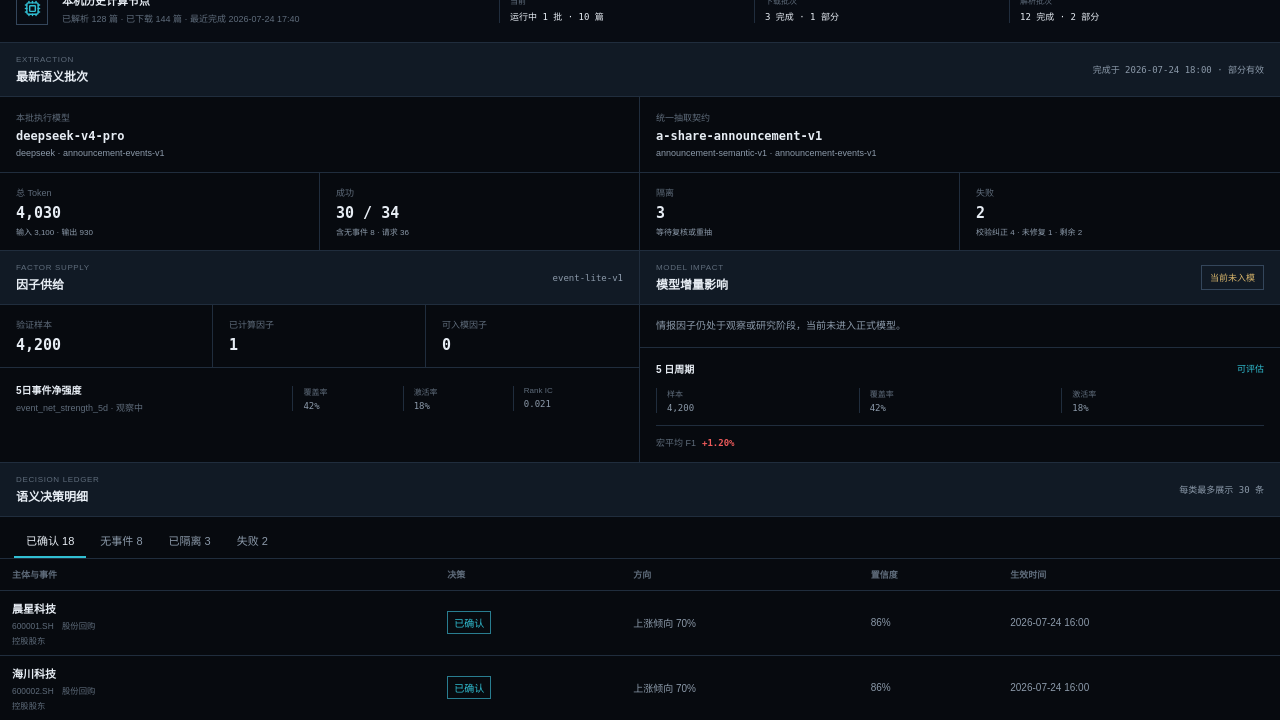
IntelligencePanel › ignores a stale document response after switching decisions
The image size is (1280, 720).
(page scrolled)
Click the button "晨星科技 600001.SH 股份回购 控股股东" at (34, 609), box [12,600,423,646]
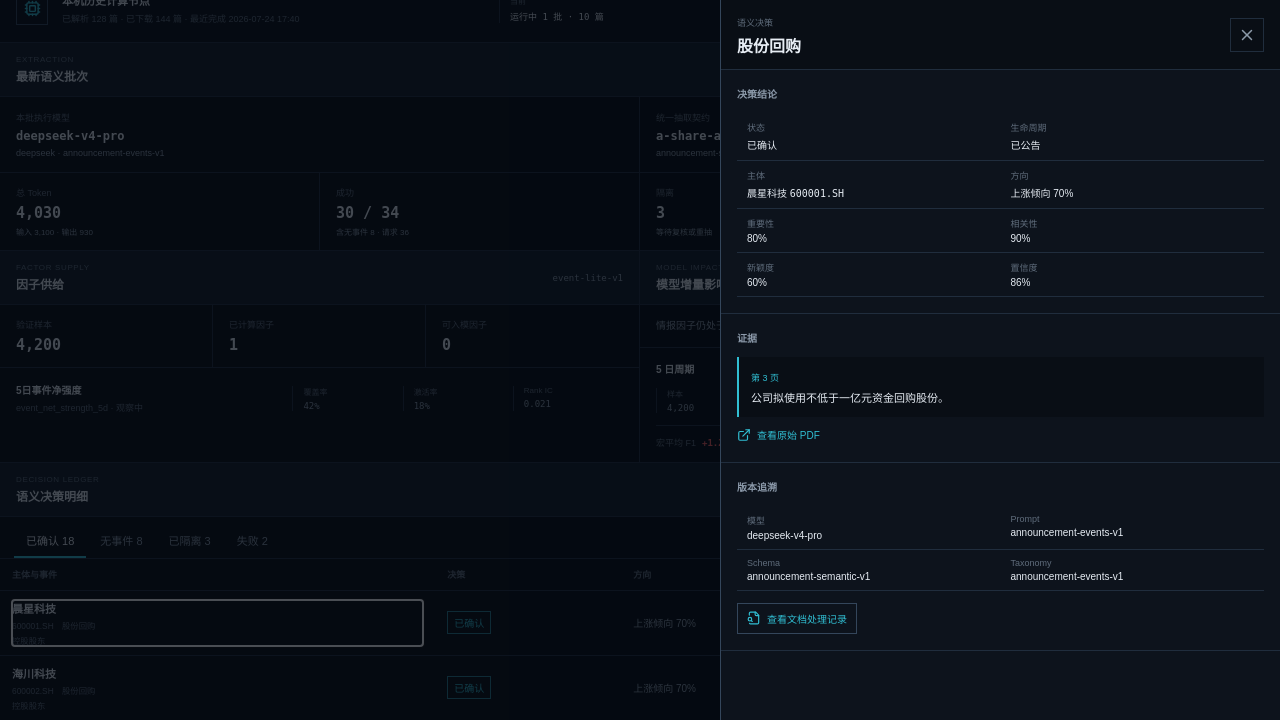
Click the button "查看文档处理记录" at (797, 618), box [737,602,857,634]
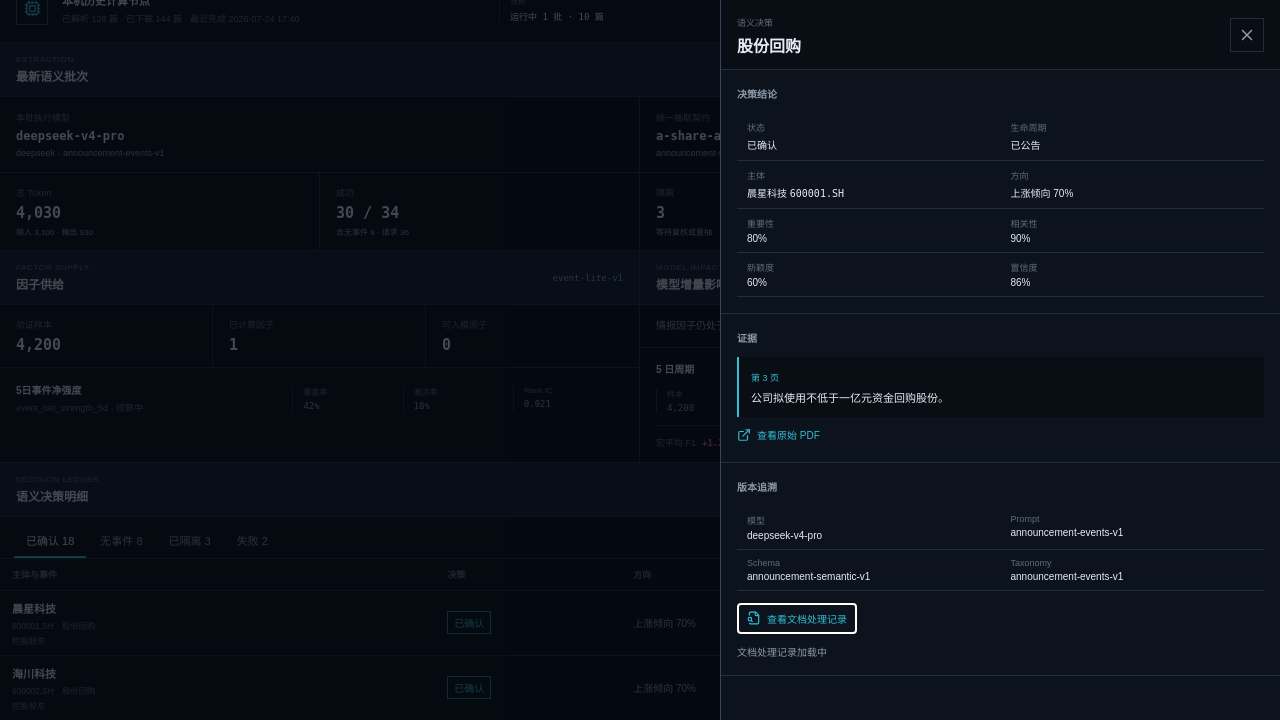
Click the button named "关闭决策详情" at (1247, 34), box [1230,18,1264,52]
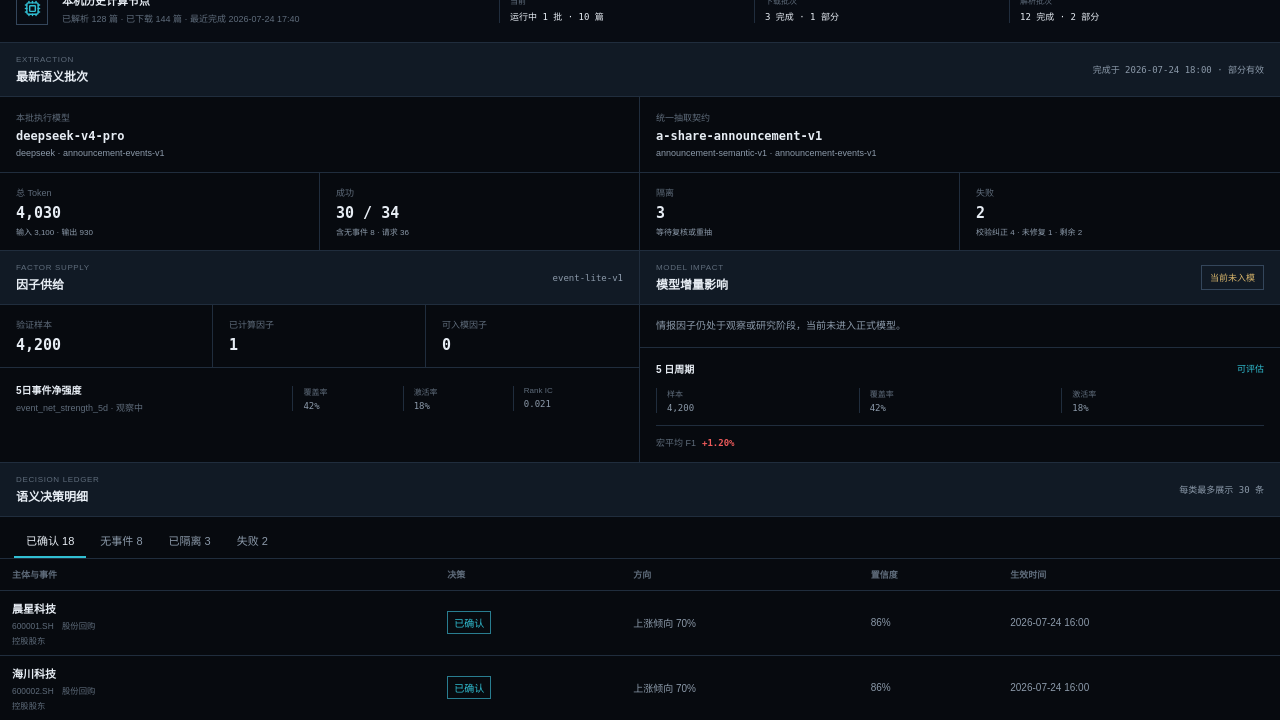
Click the button "海川科技 600002.SH 股份回购 控股股东" at (34, 674), box [12,665,423,711]
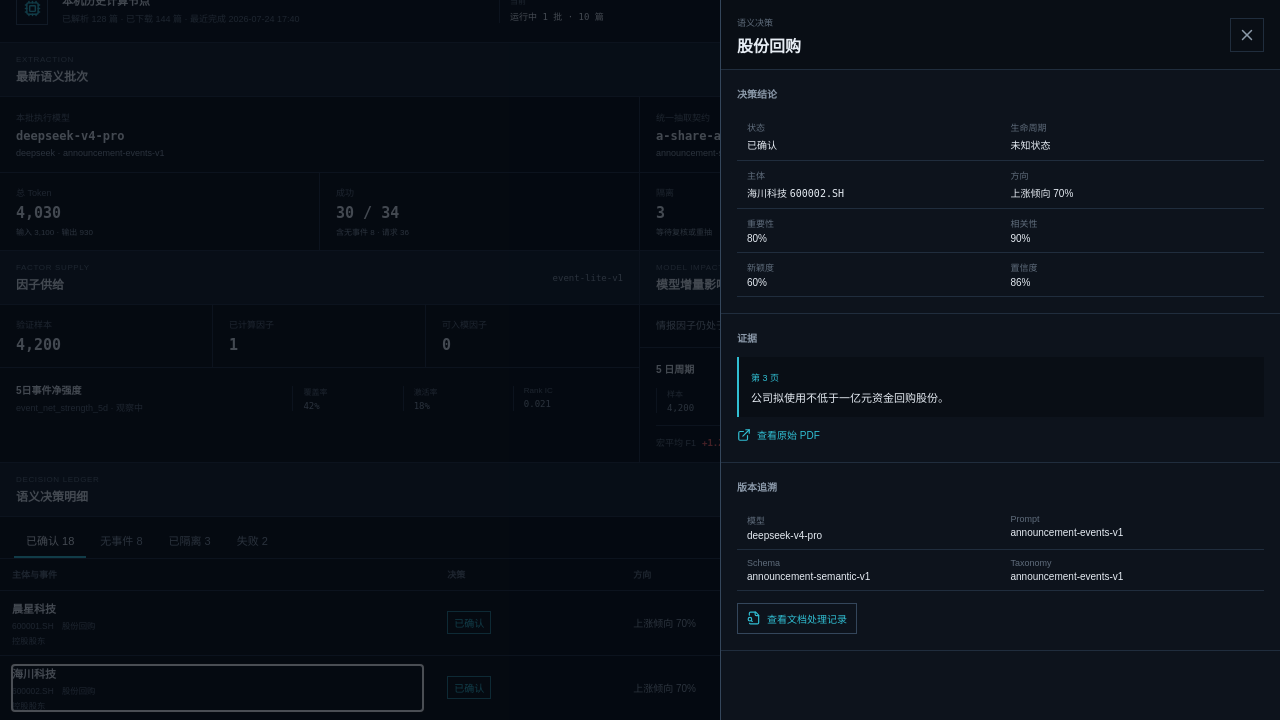
Expected: the text "海川科技" is shown, [747,188,787,199]
Click the button "查看文档处理记录" at (797, 618), box [737,602,857,634]
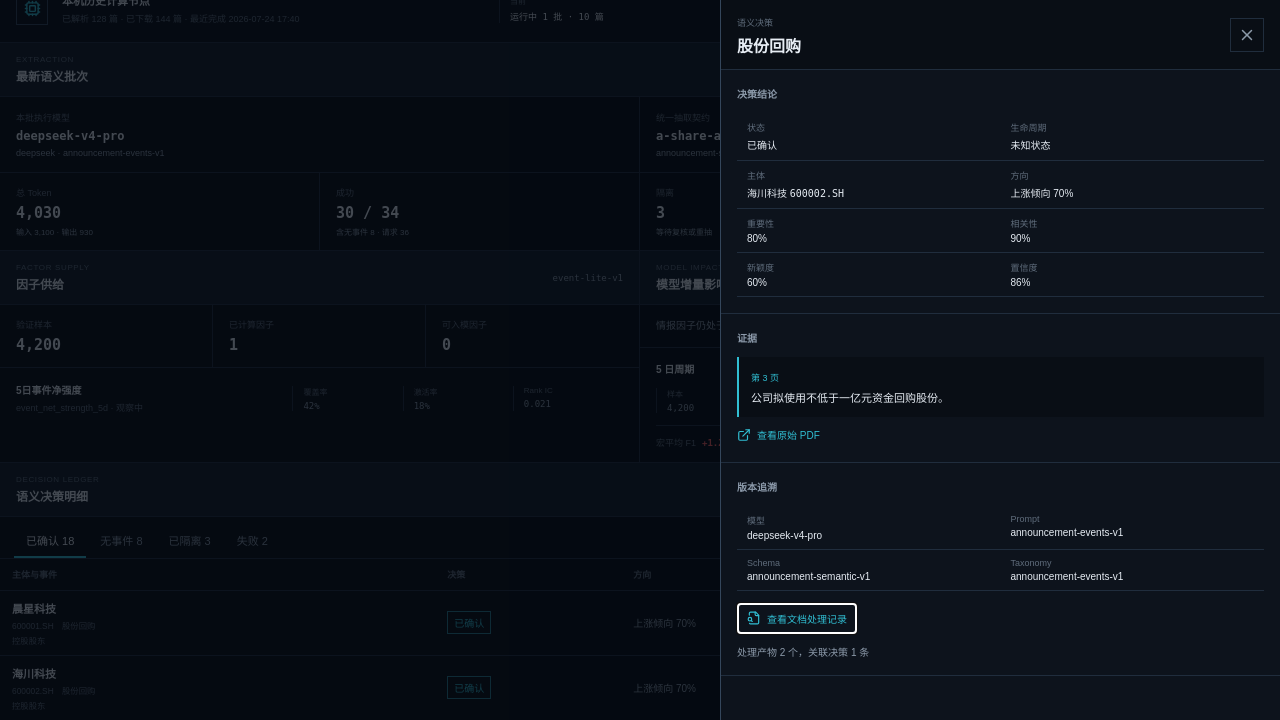
Expected: the text "处理产物 2 个，关联决策 1 条" is shown, [737,646,869,658]
